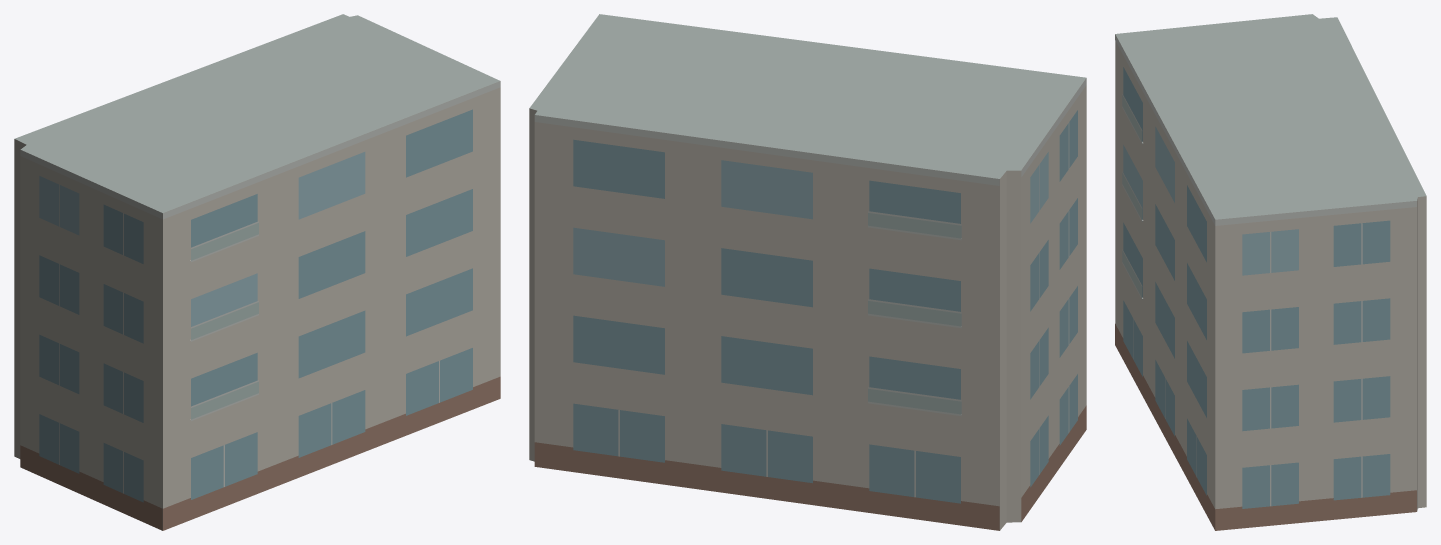
The model's file is survey-upis-32990528.glb.
3 views of the same model, side by side, from view 1: azimuth 30°, elevation 25°; view 2: azimuth 150°, elevation 25°; view 3: azimuth 270°, elevation 25° (orthographic). The views are drawn at different scales.
Parts seen in each view (by area): view 1: survey-upis-32990528.tmp; view 2: survey-upis-32990528.tmp; view 3: survey-upis-32990528.tmp.
Part boxes in pixels (x1=…): survey-upis-32990528.tmp: x1=14, y1=14, x2=500, y2=530; survey-upis-32990528.tmp: x1=529, y1=14, x2=1086, y2=530; survey-upis-32990528.tmp: x1=1115, y1=14, x2=1426, y2=530.
Bounding box in the file's own units: 17.31 × 12.2 × 11.08.
